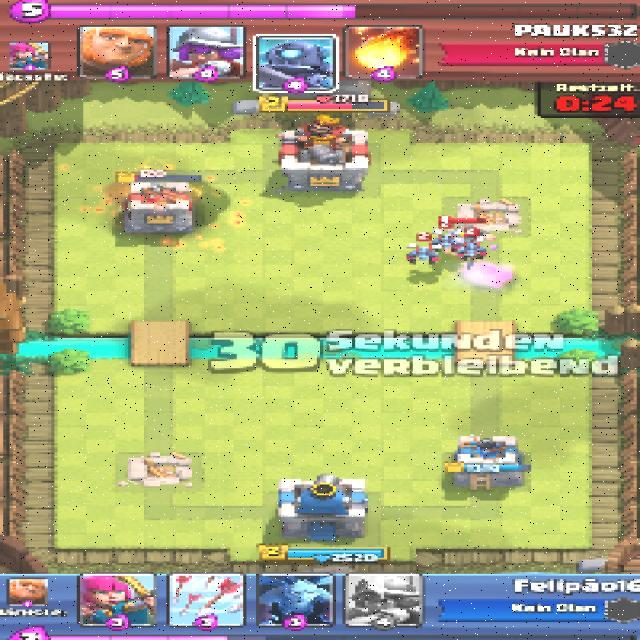Enemy-Minion: (455, 241, 491, 261), (430, 231, 462, 249), (409, 246, 437, 263)
Player-Fireball: (89, 170, 241, 248)
